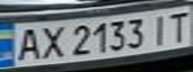1: (90, 19, 112, 54)
2: (66, 21, 93, 57)
3: (124, 16, 151, 50), (106, 17, 130, 52)
A: (9, 25, 45, 62)
I: (145, 11, 175, 45)
T: (163, 8, 193, 43)
X: (36, 22, 69, 61)
